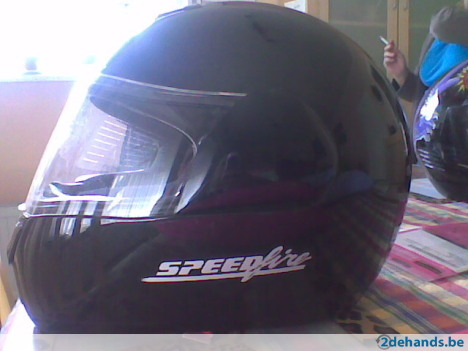helmet: (14, 10, 402, 332)
